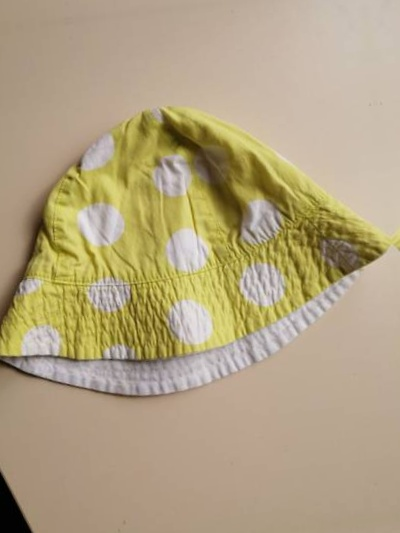Hat: (0, 92, 379, 397), (400, 42, 400, 347)
